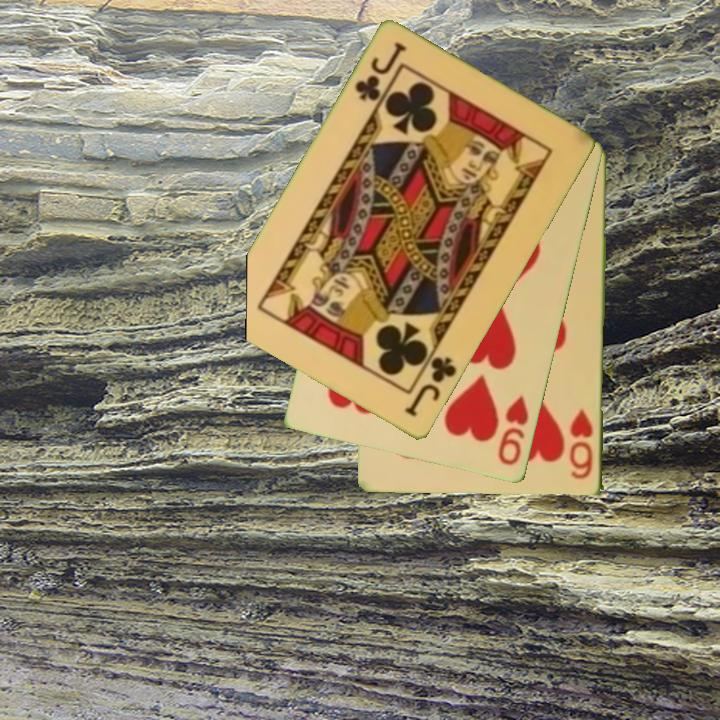6h: (566, 406, 596, 483)
9h: (494, 392, 532, 469)
Jc: (401, 353, 460, 421), (351, 39, 410, 105)
